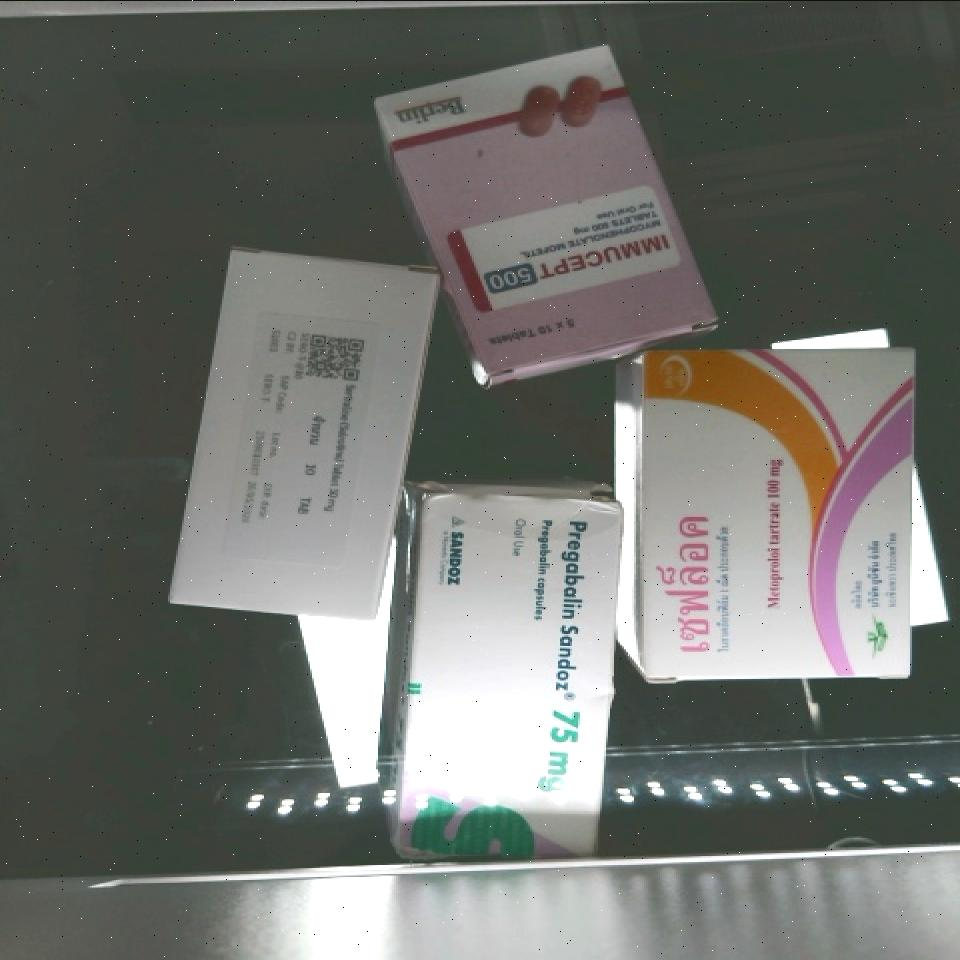medicine_box: (373, 14, 718, 410), (168, 235, 437, 641), (643, 348, 921, 679), (396, 486, 612, 869)
medicine_label_obb: (520, 500, 606, 806), (467, 211, 684, 310), (647, 483, 733, 676)
qr_code: (287, 316, 382, 402)
